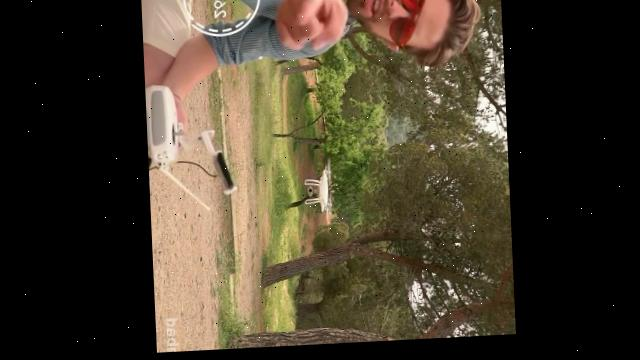drone: (300, 162, 335, 223)
